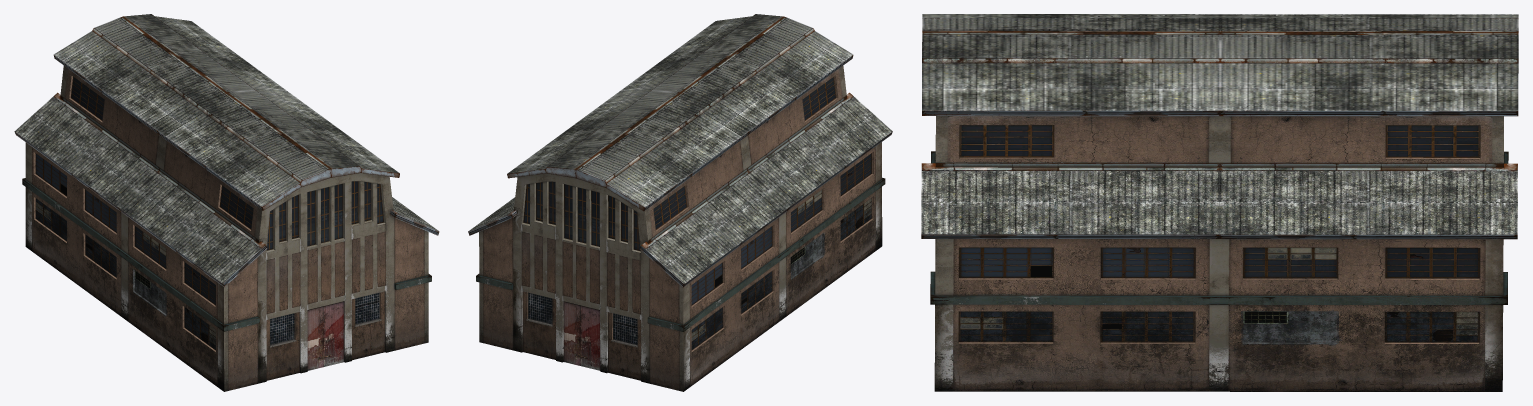
File: warehouse1.gltf
3 renders of one model, left to right at view 1: azimuth 30°, elevation 25°; view 2: azimuth 150°, elevation 25°; view 3: azimuth 270°, elevation 25°, orthographic. The views are drawn at different scales.
Visible parts, largest first — view 1: mesh_0; view 2: mesh_0; view 3: mesh_0.
Part boxes in pixels (x1=…): mesh_0: x1=14, y1=14, x2=439, y2=391; mesh_0: x1=468, y1=14, x2=892, y2=391; mesh_0: x1=921, y1=14, x2=1518, y2=391.
Bounding box in the file's own units: 67.88 × 60.5 × 113.
Materials: 1 (1 with a texture image).
